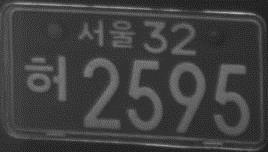2: (81, 56, 121, 129), (169, 19, 199, 58)
3: (141, 19, 167, 53)
5: (210, 61, 253, 137), (128, 57, 163, 131)
9: (169, 60, 207, 135)
서울_O: (76, 18, 137, 51)
호: (24, 52, 69, 104)
